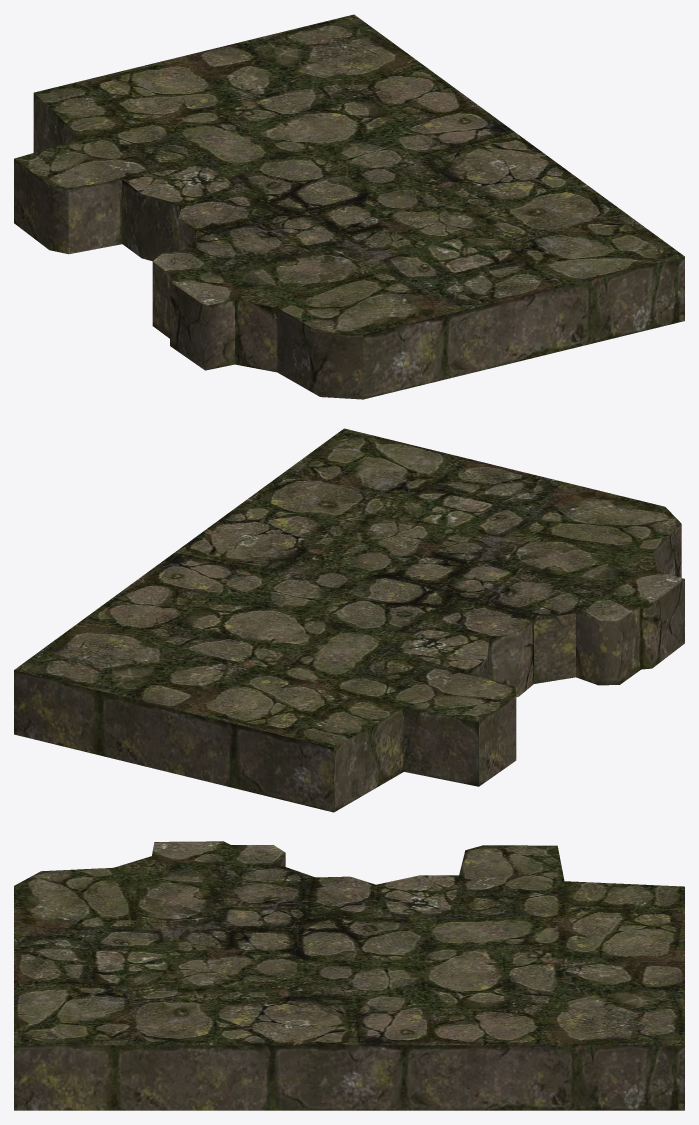
The model's file is Base_Floor_Broken_01-transformed.glb.
The picture shows the model from 3 angles, top to bottom: view 1: azimuth 30°, elevation 25°; view 2: azimuth 150°, elevation 25°; view 3: azimuth 270°, elevation 25°; orthographic projection.
Parts seen in each view (by area): view 1: default; view 2: default; view 3: default.
Boxes of the visible parts, left/top/right/bottom form: default: left=14, top=14, right=684, bottom=399; default: left=14, top=428, right=684, bottom=812; default: left=14, top=841, right=684, bottom=1110.
Size of the model in its own units: 4.31 by 0.6457 by 6.
2 materials, 2 textured.
